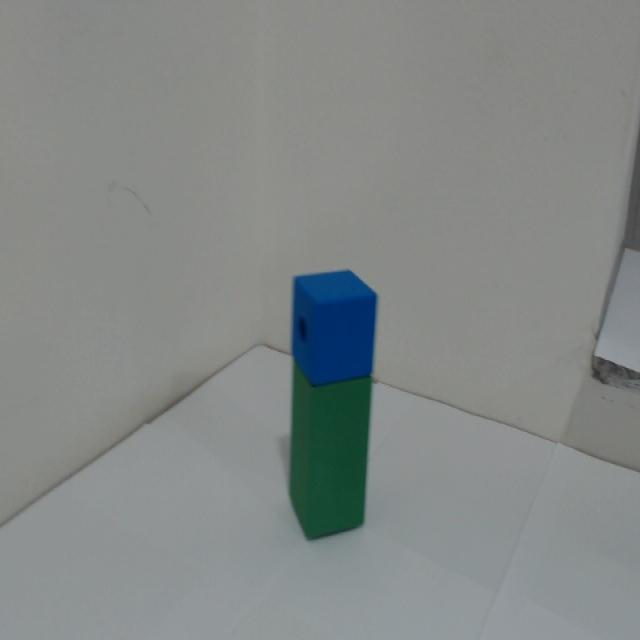cube: (264, 242, 429, 389)
